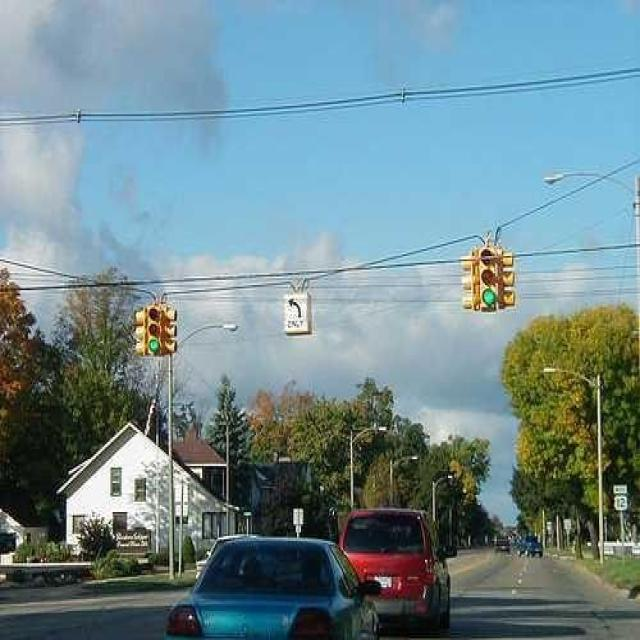Traffic Light -Green-: (474, 244, 499, 312), (142, 304, 163, 355)
